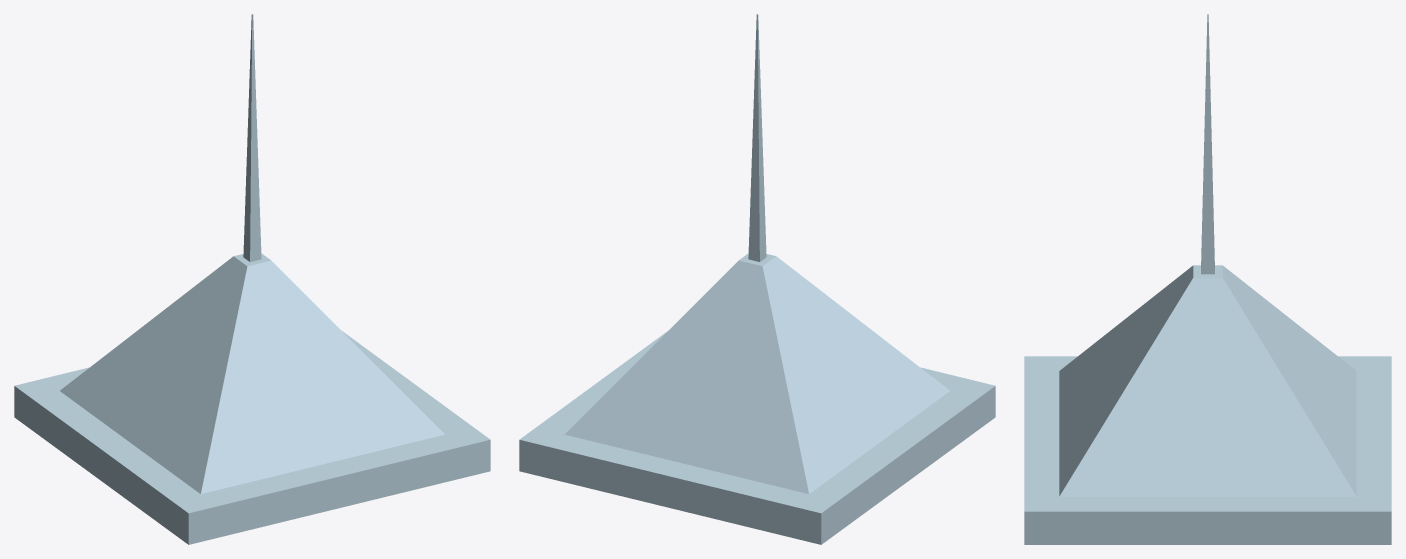
File: SkyScraper3_Top_01.fbx
3 renders of one model, left to right at view 1: azimuth 30°, elevation 25°; view 2: azimuth 150°, elevation 25°; view 3: azimuth 270°, elevation 25°, orthographic. The views are drawn at different scales.
Visible parts, largest first — view 1: SkyScraper3_Top_01; view 2: SkyScraper3_Top_01; view 3: SkyScraper3_Top_01.
Boxes of the visible parts, bbox=[...] form: SkyScraper3_Top_01: bbox=[14, 14, 490, 544]; SkyScraper3_Top_01: bbox=[519, 14, 995, 544]; SkyScraper3_Top_01: bbox=[1024, 14, 1391, 544].
Bounding box in the file's own units: 96 × 131 × 96.
